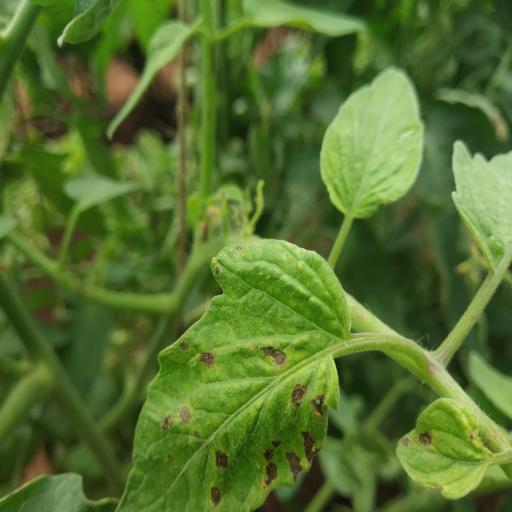Early Blight: (90, 238, 360, 512), (394, 395, 492, 503)
